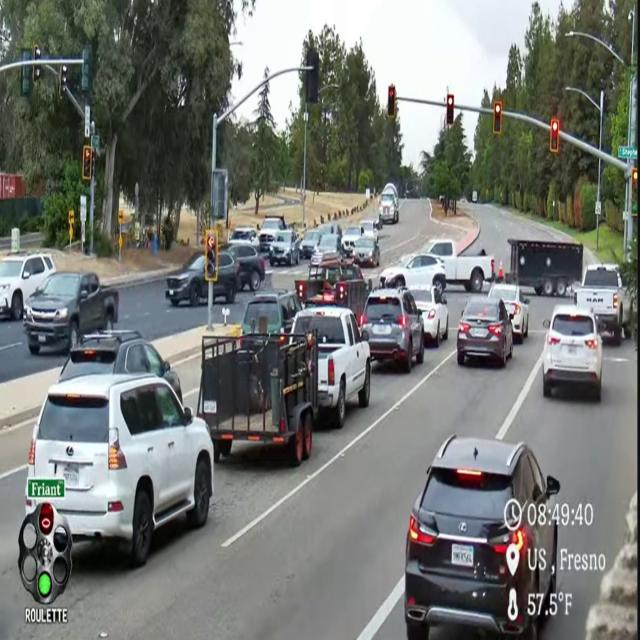car: (26, 375, 213, 566), (404, 435, 559, 639), (58, 330, 182, 401), (543, 305, 602, 401), (359, 288, 424, 372), (457, 298, 513, 367), (0, 254, 56, 319), (241, 290, 301, 343), (488, 284, 529, 343), (380, 254, 446, 290), (410, 287, 448, 346), (166, 253, 208, 306), (227, 245, 265, 291), (269, 229, 300, 266), (259, 216, 287, 252), (311, 234, 343, 265), (352, 236, 380, 267), (227, 227, 259, 249), (341, 225, 363, 255), (300, 229, 320, 258), (318, 221, 342, 237), (360, 220, 378, 241)
traffic signal: (204, 229, 218, 282), (306, 49, 319, 103), (39, 504, 54, 535), (81, 46, 91, 92), (20, 65, 32, 96), (82, 145, 92, 181), (550, 119, 559, 153), (387, 85, 396, 119), (493, 101, 502, 135), (59, 65, 68, 98), (446, 94, 454, 126), (32, 64, 41, 81), (632, 168, 637, 186)
truck: (198, 332, 318, 466), (292, 307, 370, 428), (24, 272, 118, 354), (294, 256, 372, 317), (574, 264, 632, 344), (505, 239, 583, 296), (424, 239, 495, 293), (258, 216, 287, 253), (379, 184, 399, 223)
